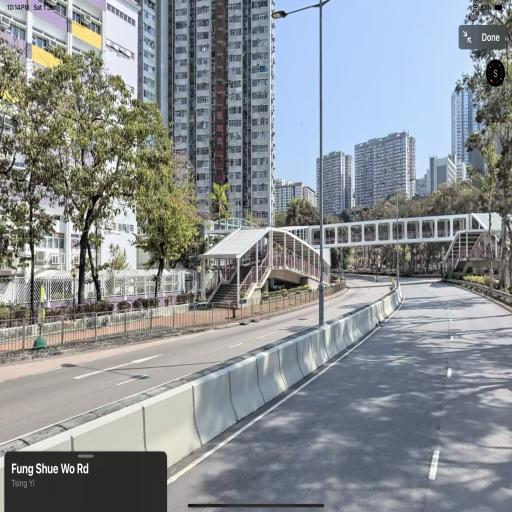Roads: (15, 270, 511, 506)
Trees: (0, 52, 181, 310)
